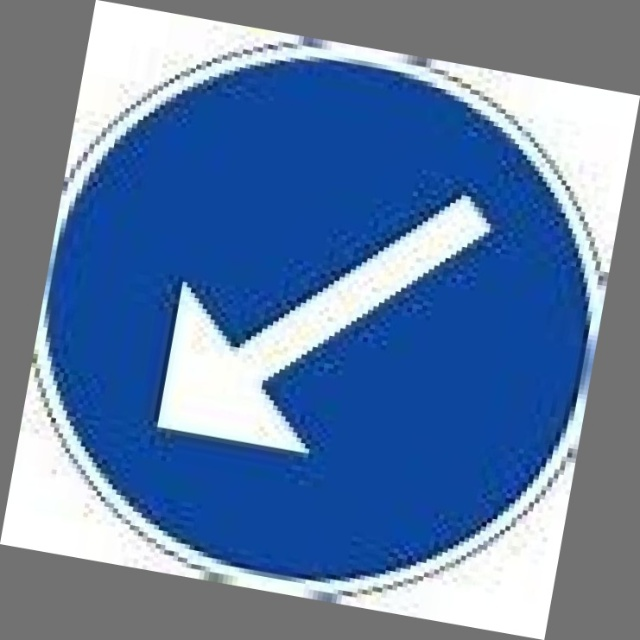R.301e: (1, 0, 635, 634)
